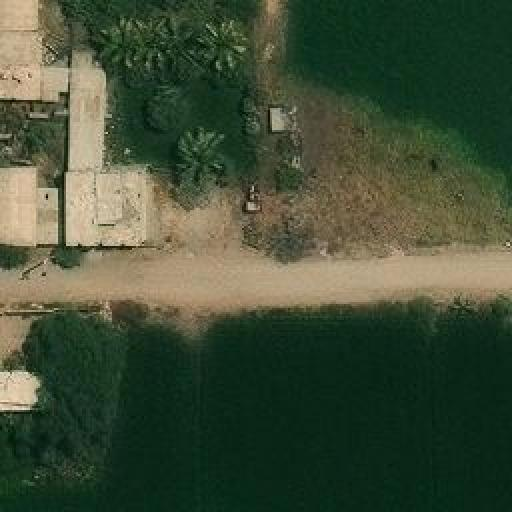manzanas: (0, 0, 165, 248), (0, 368, 57, 409)
